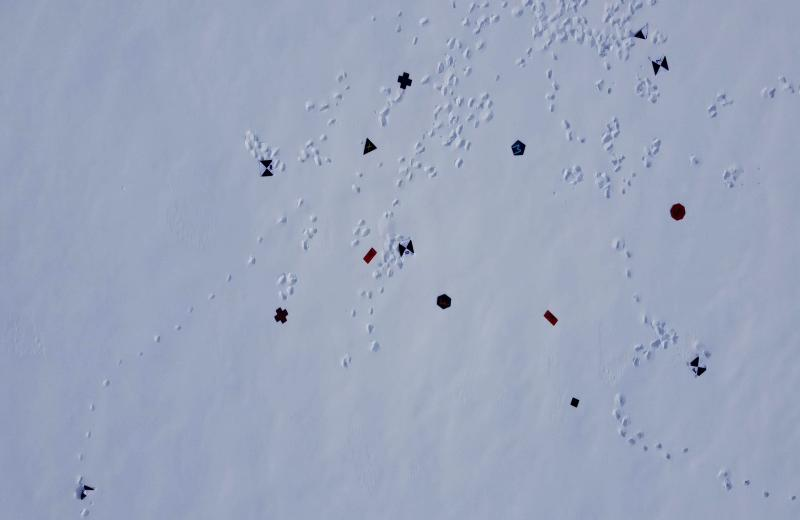Cross: (272, 306, 290, 326), (397, 71, 413, 90)
Hexagon: (435, 292, 453, 310)
Octagon: (669, 202, 687, 222)
Pentagon: (510, 140, 526, 158)
Rectangle: (360, 246, 378, 267), (543, 309, 559, 329)
Square: (569, 395, 581, 410)
Triangle: (360, 138, 379, 157)
